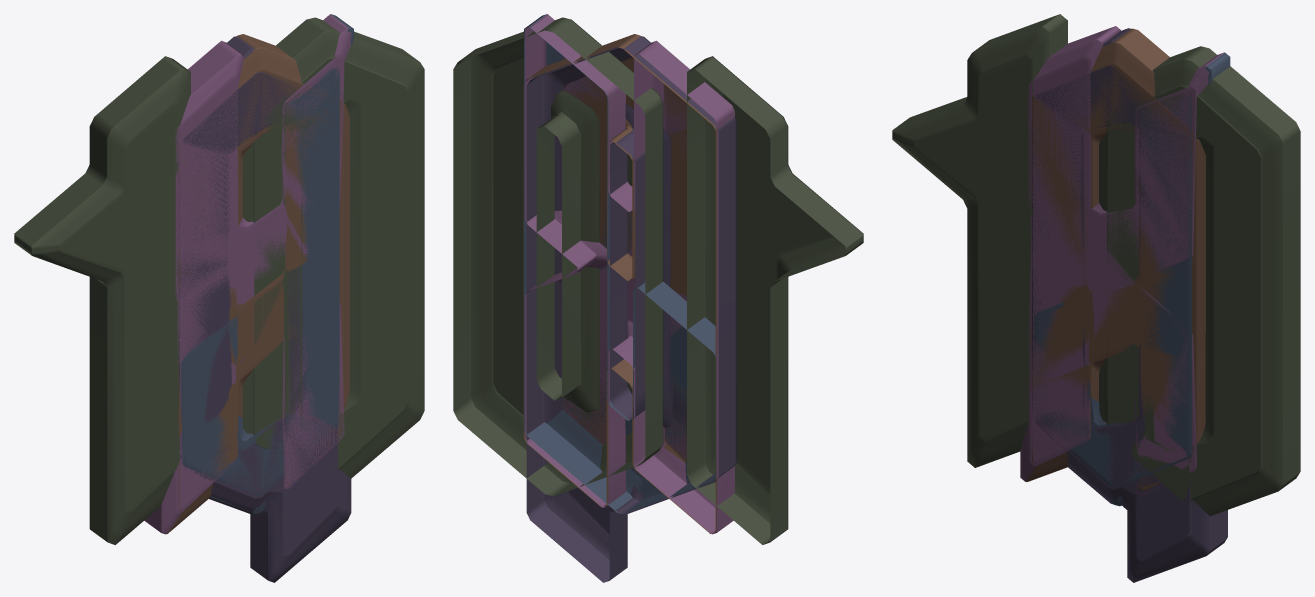
File: Letter.fbx
The picture shows the model from 3 angles, left to right: view 1: azimuth 30°, elevation 25°; view 2: azimuth 150°, elevation 25°; view 3: azimuth 330°, elevation 25°; orthographic projection.
Visible parts, largest first — view 1: IO, K, Q, J, A; view 2: IO, Q, K, J, A; view 3: IO, K, A, Q, J.
Boxes of the visible parts, x1,y1,x2,y2 form: IO: (14, 17, 424, 544); K: (144, 14, 351, 534); Q: (179, 36, 351, 582); J: (181, 14, 353, 513); A: (167, 34, 349, 533); IO: (453, 17, 863, 544); Q: (526, 36, 736, 582); K: (525, 14, 734, 534); J: (524, 14, 716, 513); A: (523, 34, 716, 533); IO: (892, 14, 1300, 516); K: (1020, 26, 1224, 495); A: (1026, 28, 1205, 491); Q: (1032, 28, 1227, 582); J: (1034, 52, 1230, 506).
Size of the model in its own units: 13.5 by 17.72 by 1.25.
